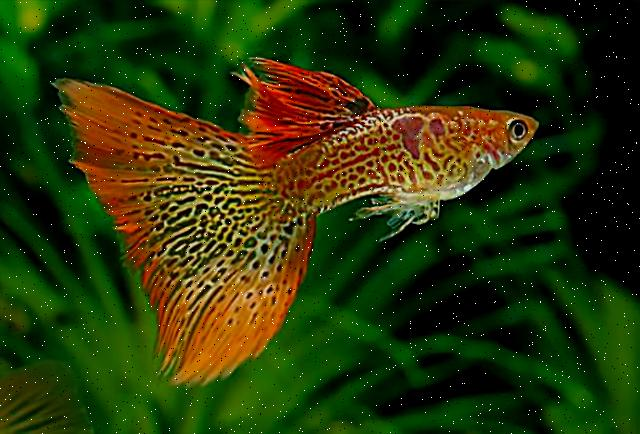Mulut: (502, 103, 556, 159)
Sirip Anal: (333, 176, 402, 230)
Sirip Ekor: (51, 77, 316, 389)
Sirip Perut: (376, 200, 450, 254)
Sirip Punggung: (210, 46, 384, 172)
